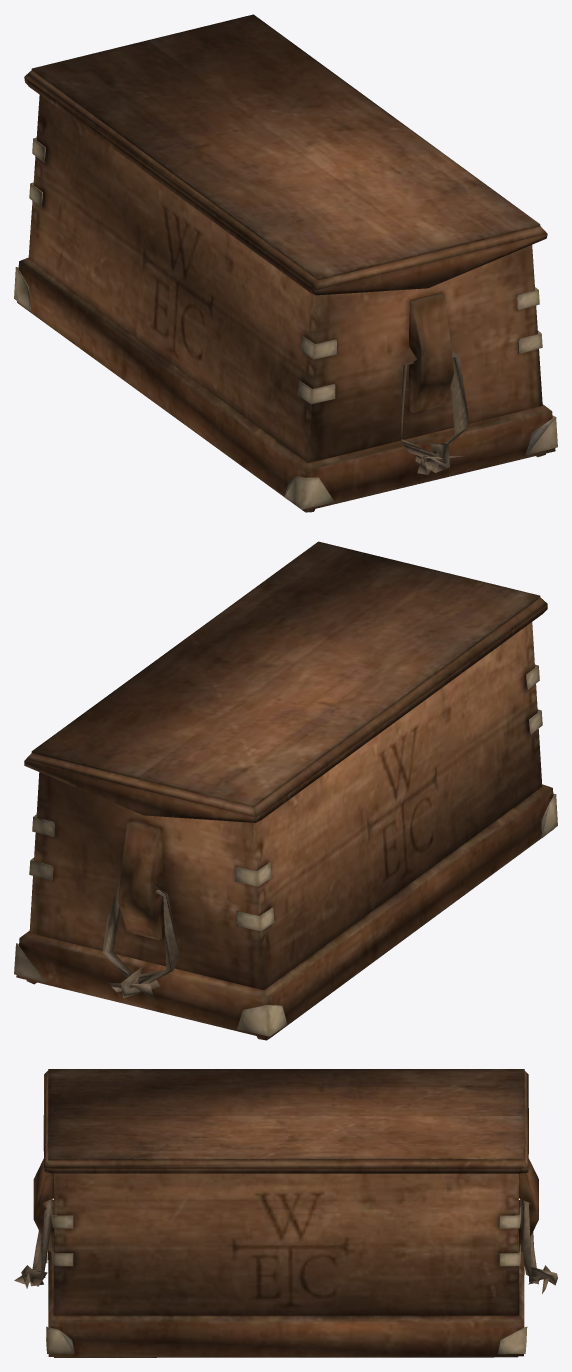
The model's file is wooden_crate_02.glb.
3 renders of one model, top to bottom at view 1: azimuth 30°, elevation 25°; view 2: azimuth 150°, elevation 25°; view 3: azimuth 270°, elevation 25°, orthographic. The views are drawn at different scales.
Parts seen in each view (by area): view 1: wooden_crate_02_crate, wooden_crate_02_lid; view 2: wooden_crate_02_crate, wooden_crate_02_lid; view 3: wooden_crate_02_crate, wooden_crate_02_lid.
Part boxes in pixels (x1=…): wooden_crate_02_crate: x1=14, y1=95, x2=557, y2=512; wooden_crate_02_lid: x1=24, y1=14, x2=547, y2=295; wooden_crate_02_crate: x1=14, y1=622, x2=557, y2=1040; wooden_crate_02_lid: x1=24, y1=541, x2=547, y2=822; wooden_crate_02_crate: x1=14, y1=1158, x2=557, y2=1357; wooden_crate_02_lid: x1=43, y1=1069, x2=528, y2=1173.
Size of the model in its own units: 0.5291 by 0.4628 by 1.16.
Materials: 1 (1 with a texture image).
